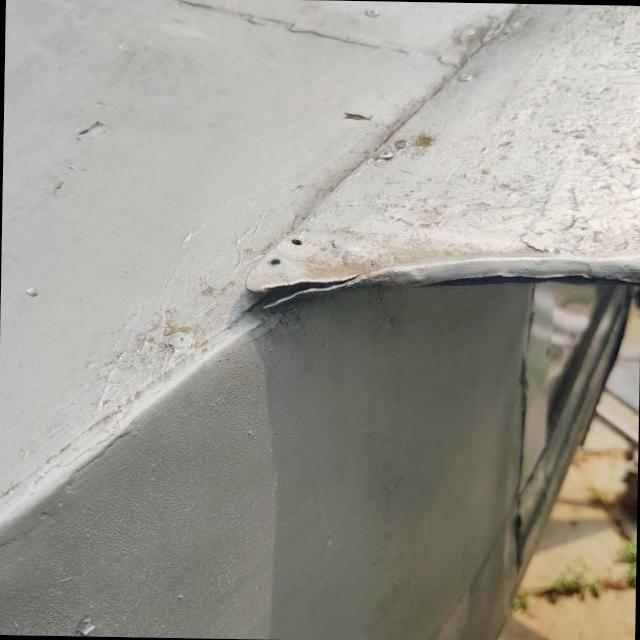crack: (230, 261, 376, 341)
